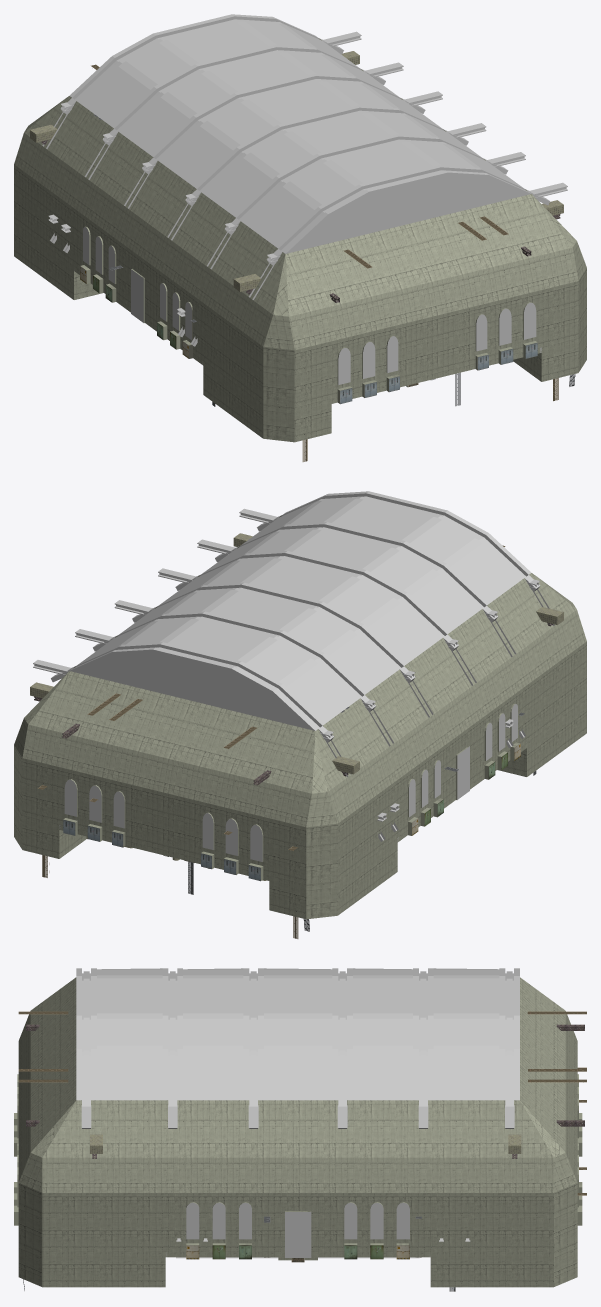
File: stadium_01.fbx
3 views of the same model, one above another, from view 1: azimuth 30°, elevation 25°; view 2: azimuth 150°, elevation 25°; view 3: azimuth 270°, elevation 25° (orthographic). The views are drawn at different scales.
Visible parts, largest first — view 1: Ceiling Curve, Cube, ROOF GLASS, Roof Ceiling, ROOF GLASS 2, Metal Beam, Cube.025, Pipes, Support Truss; view 2: Ceiling Curve, Cube, ROOF GLASS, Roof Ceiling, ROOF GLASS 2, Metal Beam, Pipes, Cube.025, Support Truss; view 3: Ceiling Curve, Cube, ROOF GLASS, Roof Ceiling, Pipes, Metal Beam, Truss.005, Cube.025.
Boxes of the visible parts, x1,y1,x2,y2 form: Ceiling Curve: (14,38,586,350); Cube: (14,164,586,442); ROOF GLASS: (84,22,516,242); Roof Ceiling: (60,14,549,265); ROOF GLASS 2: (289,172,527,252); Metal Beam: (61,31,567,262); Cube.025: (30,51,563,291); Pipes: (91,64,575,461); Support Truss: (42,112,274,346); Ceiling Curve: (14,515,586,827); Cube: (14,641,586,919); ROOF GLASS: (84,499,517,719); Roof Ceiling: (51,491,540,742); ROOF GLASS 2: (73,650,311,729); Metal Beam: (33,508,539,739); Pipes: (38,545,536,938); Cube.025: (30,533,563,774); Support Truss: (326,589,554,841); Ceiling Curve: (18,977,577,1192); Cube: (14,1074,582,1287); ROOF GLASS: (97,969,499,1095); Roof Ceiling: (76,968,519,1128); Pipes: (18,1011,586,1291); Metal Beam: (81,1105,514,1127); Truss.005: (26,1024,584,1158); Cube.025: (90,1134,521,1153).
Size of the model in its own units: 87.03 by 56.21 by 121.
